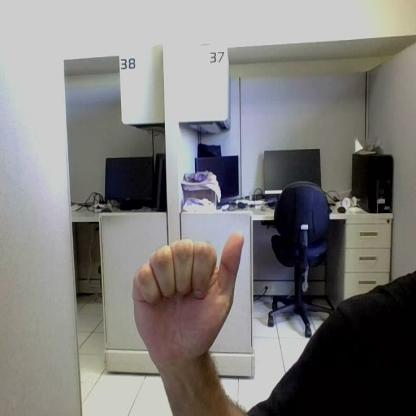A: (131, 233, 244, 339)
